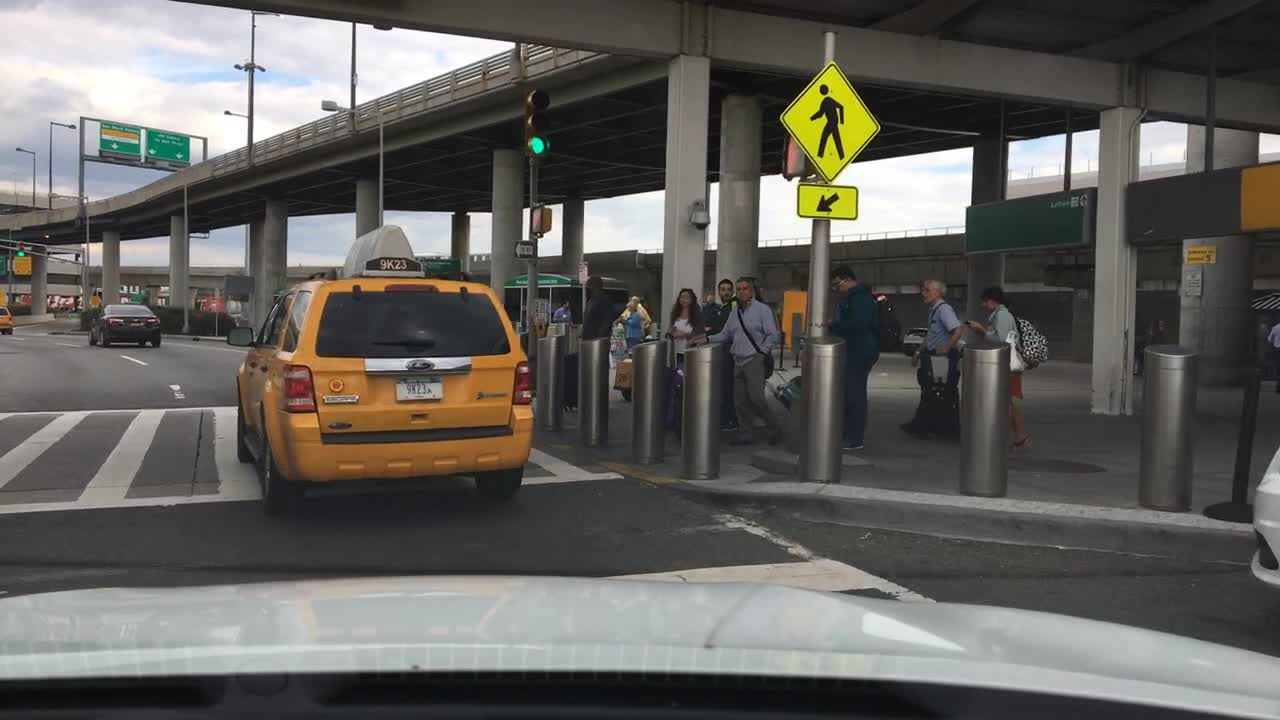car: (224, 224, 535, 515), (1248, 442, 1279, 587), (87, 302, 160, 349), (0, 307, 13, 337)
person: (822, 261, 899, 450), (963, 285, 1049, 452), (705, 277, 786, 445), (897, 275, 963, 440), (663, 287, 702, 444), (712, 278, 741, 425), (609, 304, 644, 403), (577, 277, 611, 339), (612, 293, 654, 341), (1262, 314, 1279, 395), (700, 288, 724, 334), (746, 273, 768, 304), (550, 299, 572, 324), (511, 304, 530, 332)
traffic light: (523, 86, 552, 158), (779, 132, 811, 179), (528, 204, 552, 234), (17, 236, 27, 258)
traffic sign: (779, 59, 881, 184), (798, 185, 855, 219), (143, 128, 189, 162), (98, 121, 140, 155), (513, 239, 538, 260), (199, 295, 224, 314), (128, 290, 145, 304), (86, 293, 101, 307), (0, 255, 8, 277)
